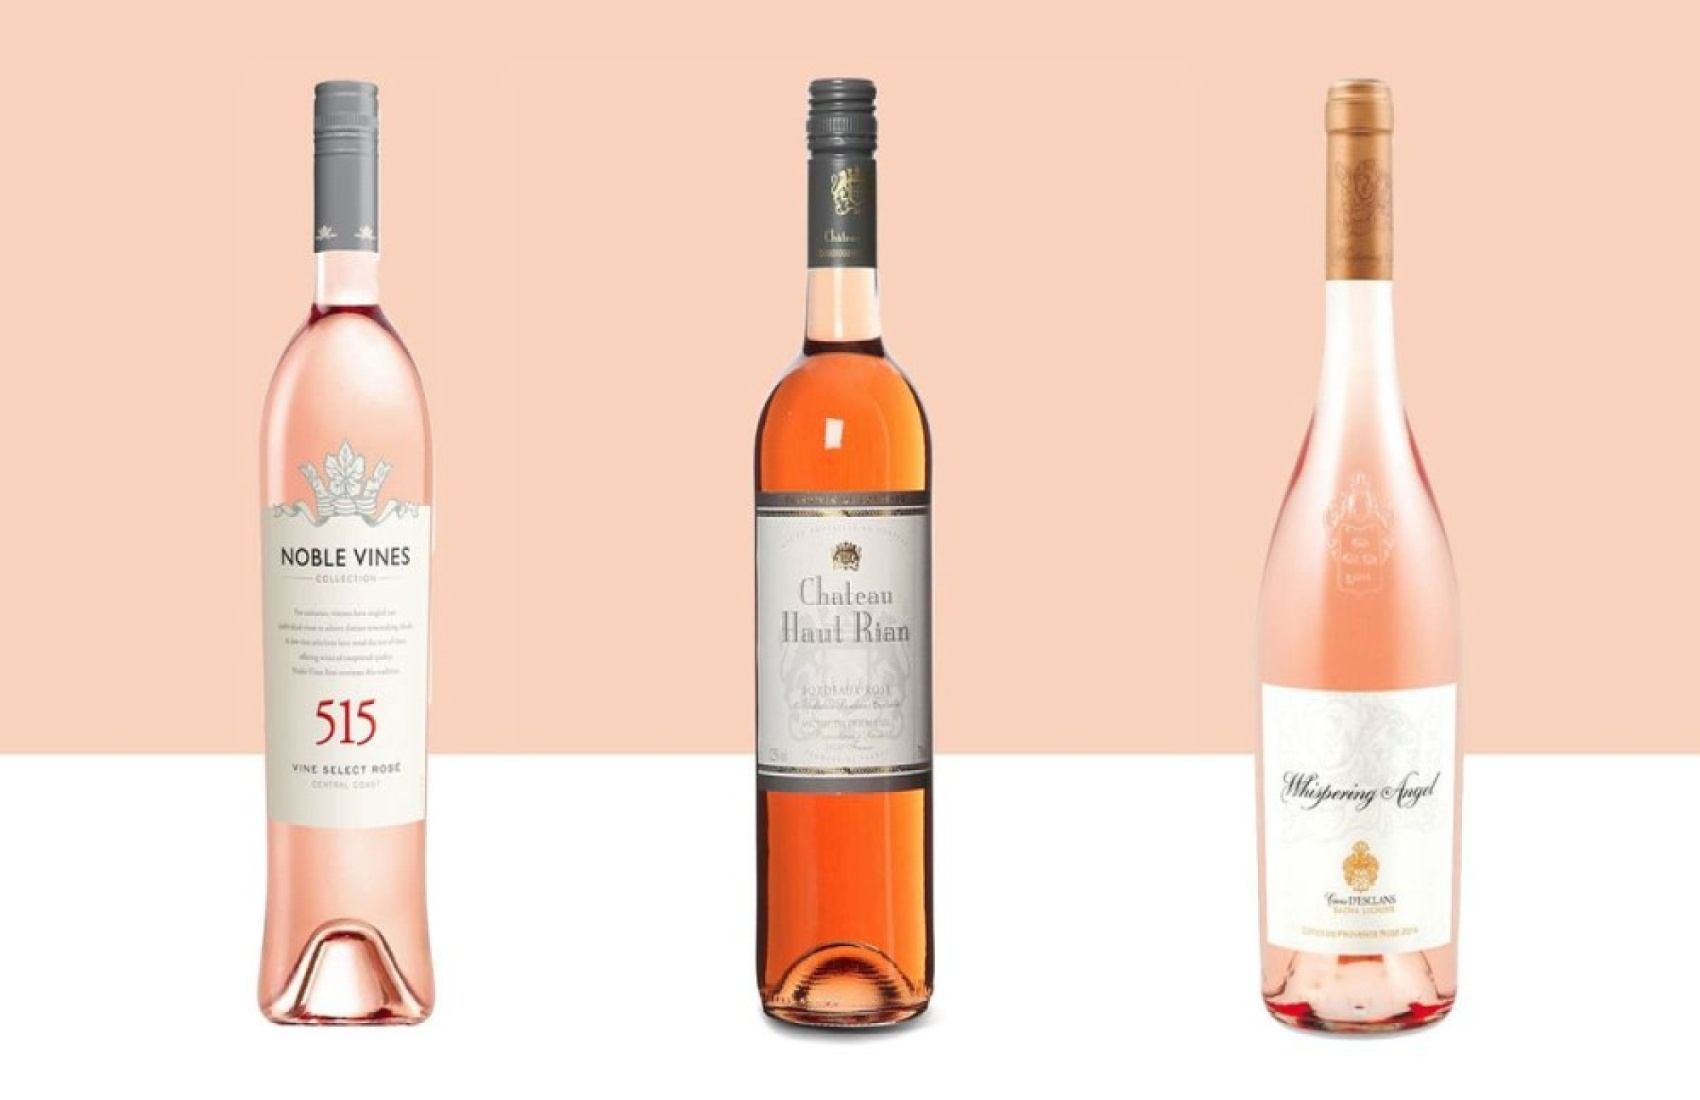wine: (1256, 77, 1450, 1024), (757, 77, 931, 1024), (270, 81, 437, 1042)
